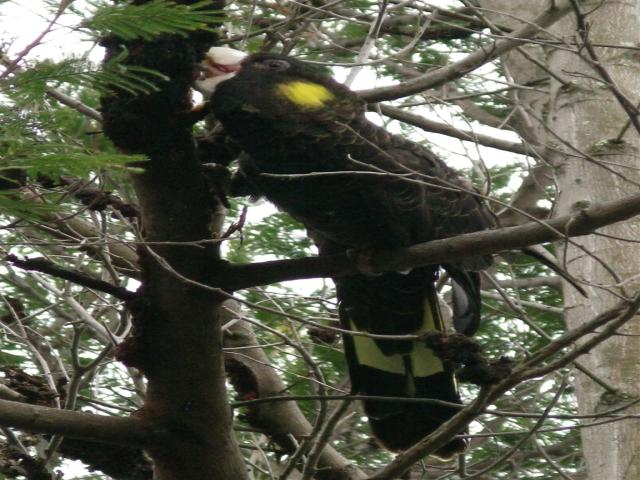Bird: (206, 40, 596, 461)
